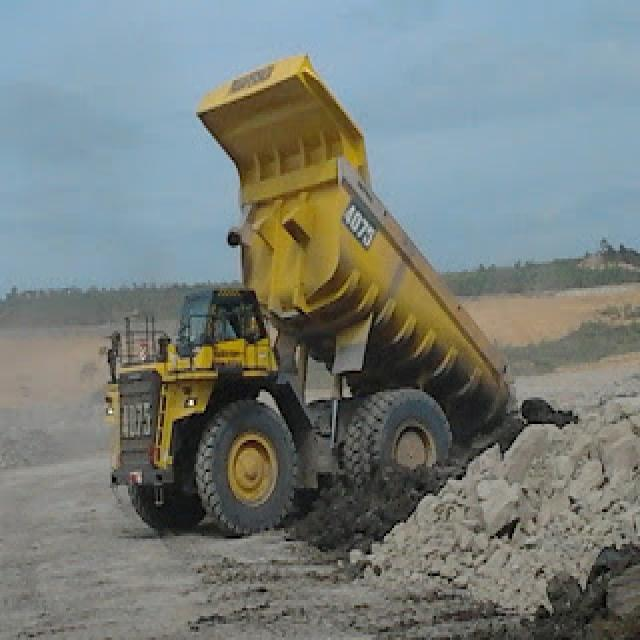dump_truck: (92, 51, 530, 536)
